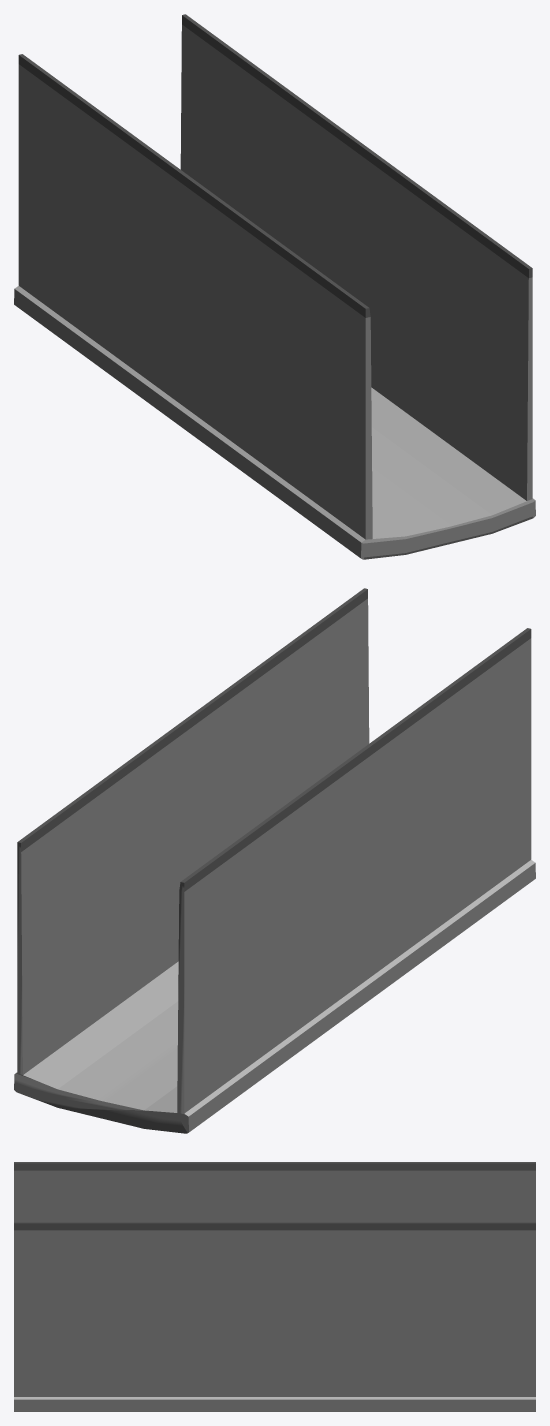
The model's file is trashcan_inside.FBX.
3 renders of one model, top to bottom at view 1: azimuth 30°, elevation 25°; view 2: azimuth 150°, elevation 25°; view 3: azimuth 270°, elevation 25°, orthographic. The views are drawn at different scales.
Parts seen in each view (by area): view 1: trashcan_inside; view 2: trashcan_inside; view 3: trashcan_inside.
Boxes of the visible parts, x1=… form: trashcan_inside: x1=14, y1=14, x2=535, y2=559; trashcan_inside: x1=14, y1=588, x2=535, y2=1133; trashcan_inside: x1=14, y1=1162, x2=535, y2=1411.
Size of the model in its own units: 67.76 by 94.63 by 233.
1 material, 1 textured.
